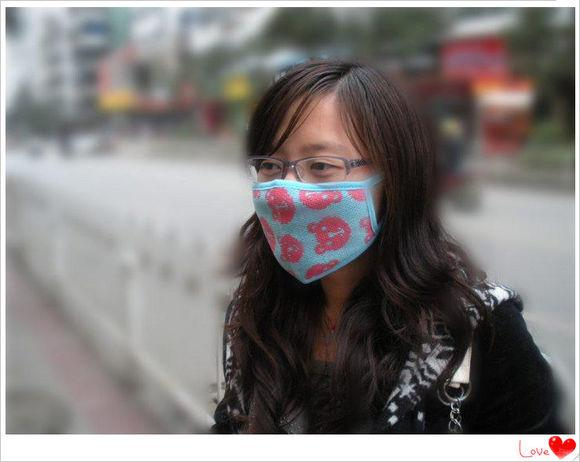OK: (247, 113, 406, 272)
